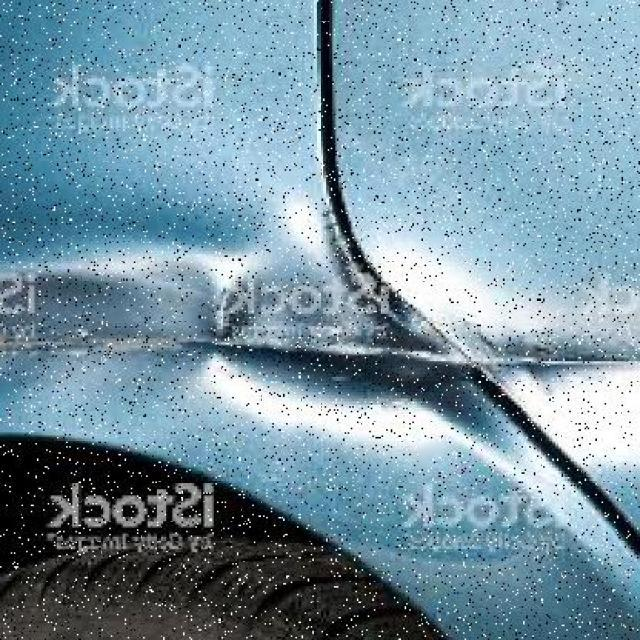car damage: (204, 231, 553, 478), (0, 244, 220, 453)
